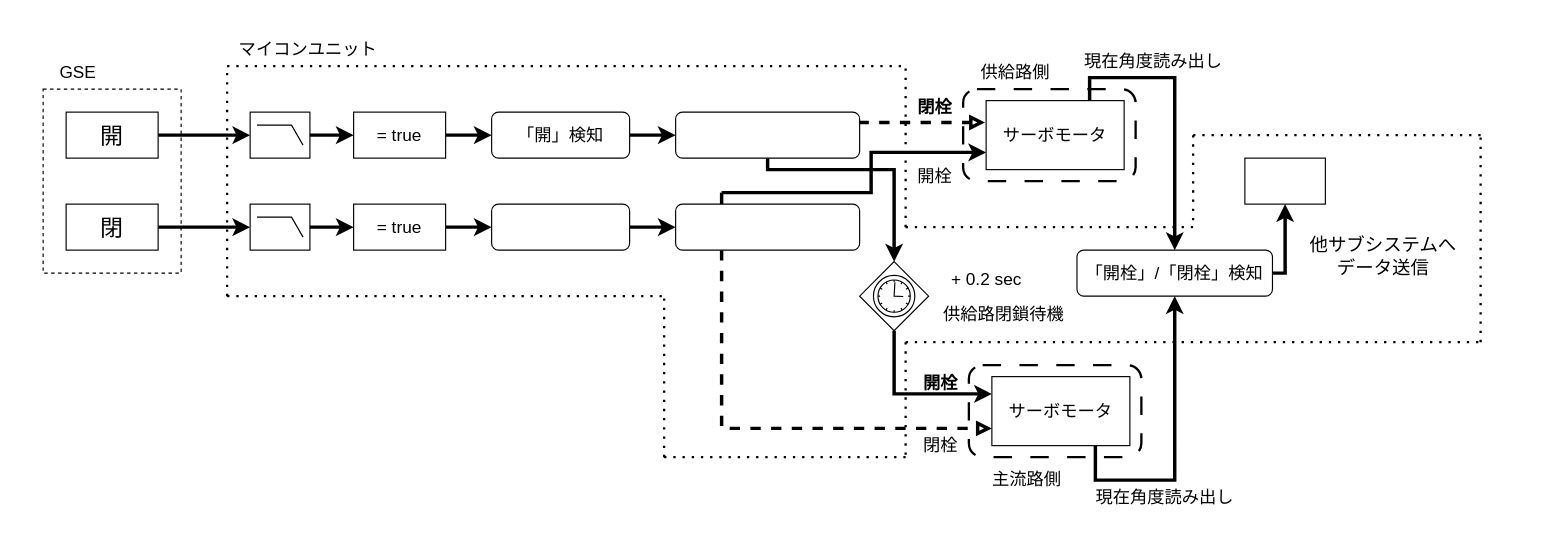
Some shapes in this 1557 by 545 pixel diagram are drawn without their labels. Here are the shapes that lost their labels. From the top down, the centre of each, then its label:
the point at 767,134: ローンチモード
the point at 1284,180: エラー
the point at 560,226: 「閉」検知
the point at 767,226: ウェイティングモード
